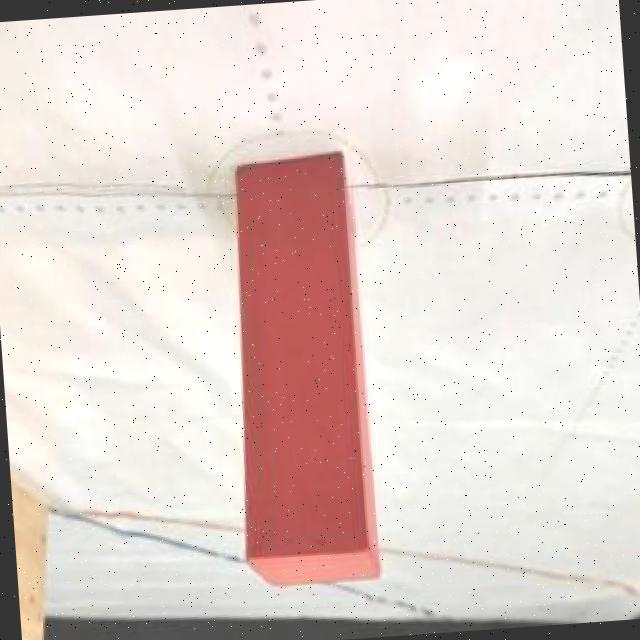redbox: (218, 152, 385, 588)
